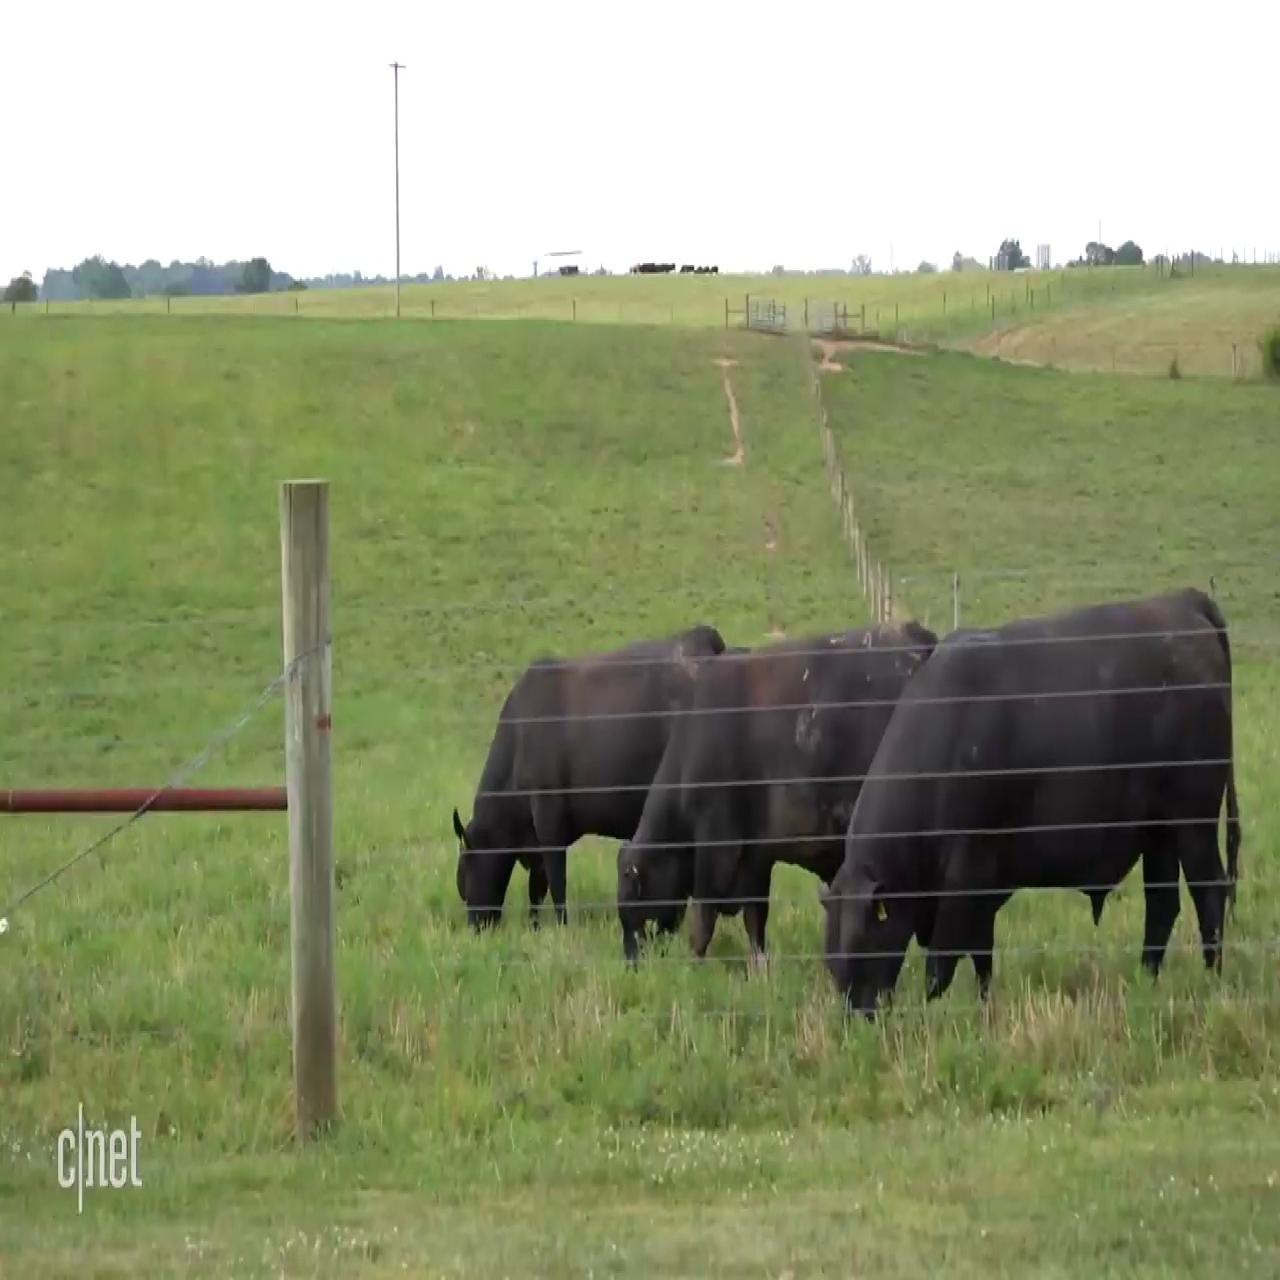cow: (824, 591, 1248, 1085), (605, 639, 978, 980), (452, 635, 735, 952)
